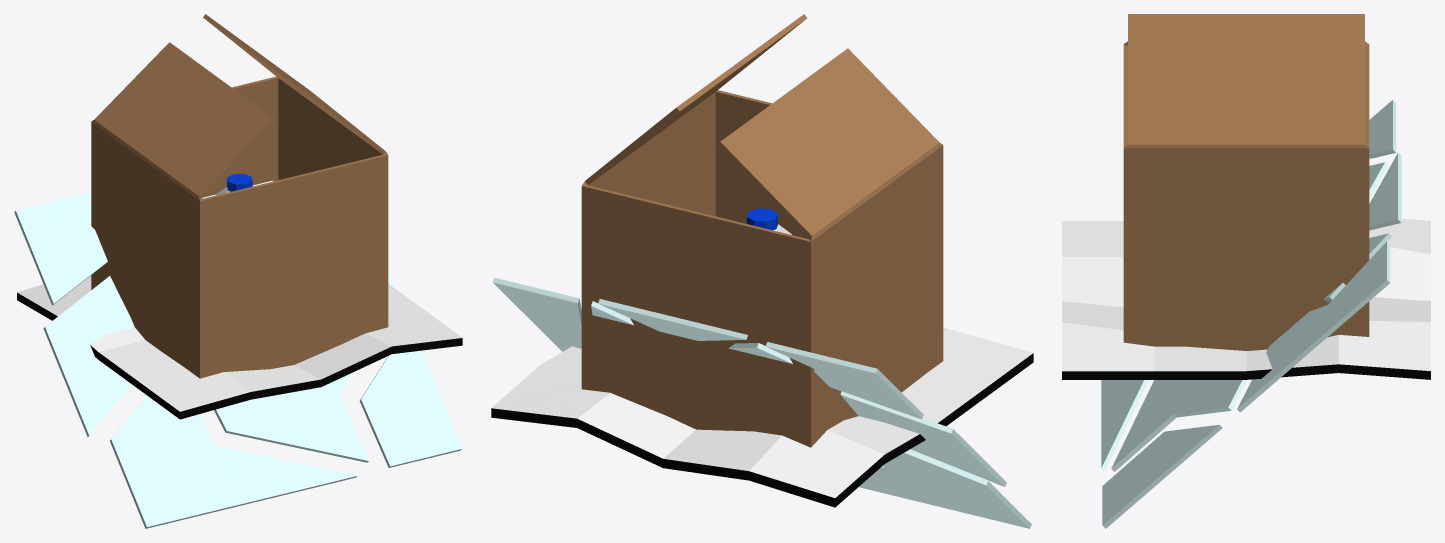
Rendered from low_poly_recycle_props.glb.
3 renders of one model, left to right at view 1: azimuth 30°, elevation 25°; view 2: azimuth 150°, elevation 25°; view 3: azimuth 270°, elevation 25°, orthographic. The views are drawn at different scales.
Parts seen in each view (by area): view 1: cardboard_box_2, glass_shards_4, newspaper_0; view 2: cardboard_box_2, newspaper_0, glass_shards_4, water_bottle_1; view 3: cardboard_box_2, newspaper_0, glass_shards_4.
Boxes of the visible parts, bbox=[...] form: cardboard_box_2: bbox=[91, 14, 388, 378]; glass_shards_4: bbox=[14, 180, 461, 528]; newspaper_0: bbox=[17, 275, 462, 419]; cardboard_box_2: bbox=[581, 14, 943, 447]; newspaper_0: bbox=[491, 328, 1033, 507]; glass_shards_4: bbox=[492, 277, 1031, 528]; water_bottle_1: bbox=[746, 208, 791, 234]; cardboard_box_2: bbox=[1123, 14, 1369, 350]; newspaper_0: bbox=[1062, 218, 1430, 379]; glass_shards_4: bbox=[1101, 100, 1401, 528].
Size of the model in its own units: 0.8876 by 0.9838 by 0.75.
Materials: 10 (1 with a texture image).
